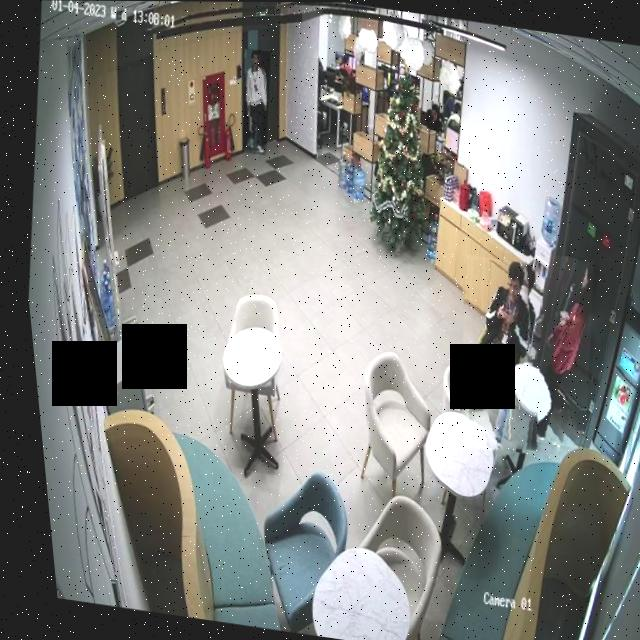person: (435, 254, 553, 456), (513, 253, 603, 448), (232, 48, 278, 155), (421, 100, 444, 131)
